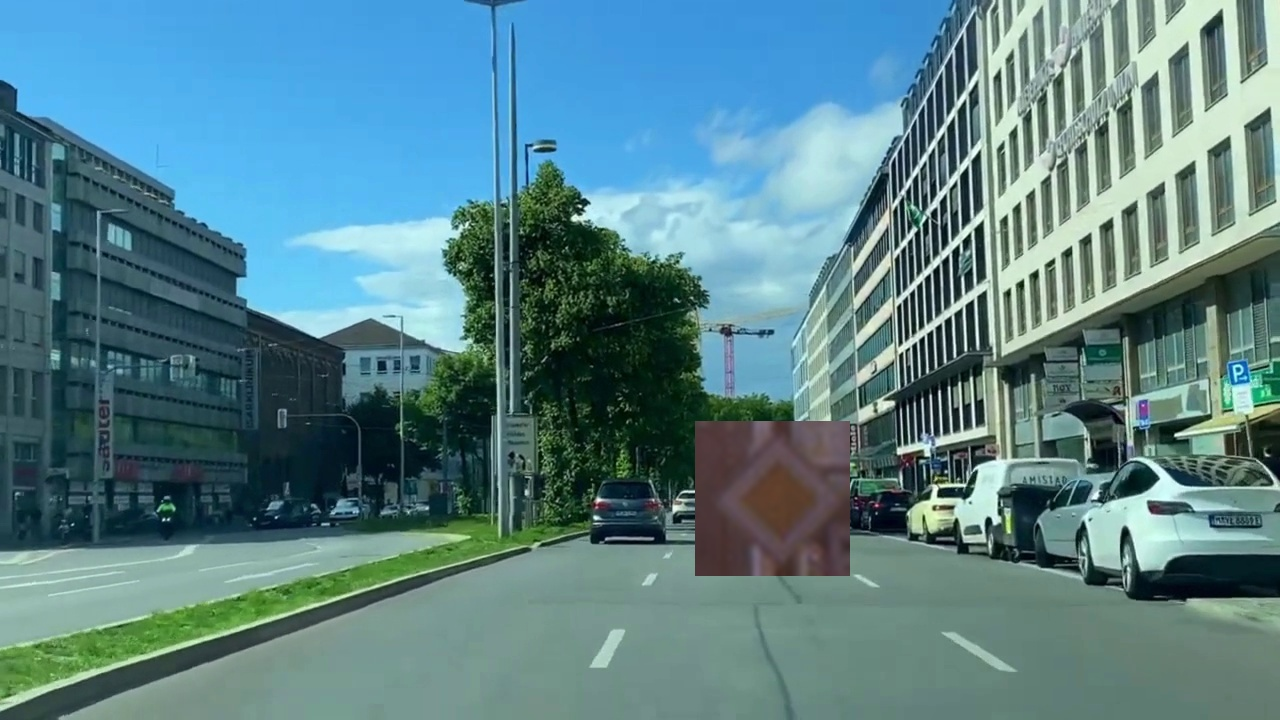Priority road: (695, 421, 850, 576)
